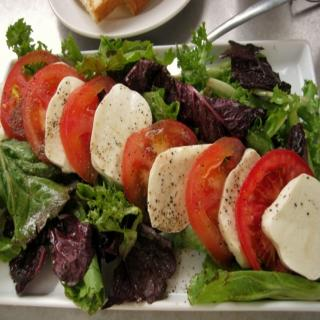Cheese: (90, 79, 154, 186), (262, 172, 320, 281), (147, 143, 213, 230), (219, 146, 263, 270), (44, 78, 85, 174)
Salad: (0, 13, 320, 320)
